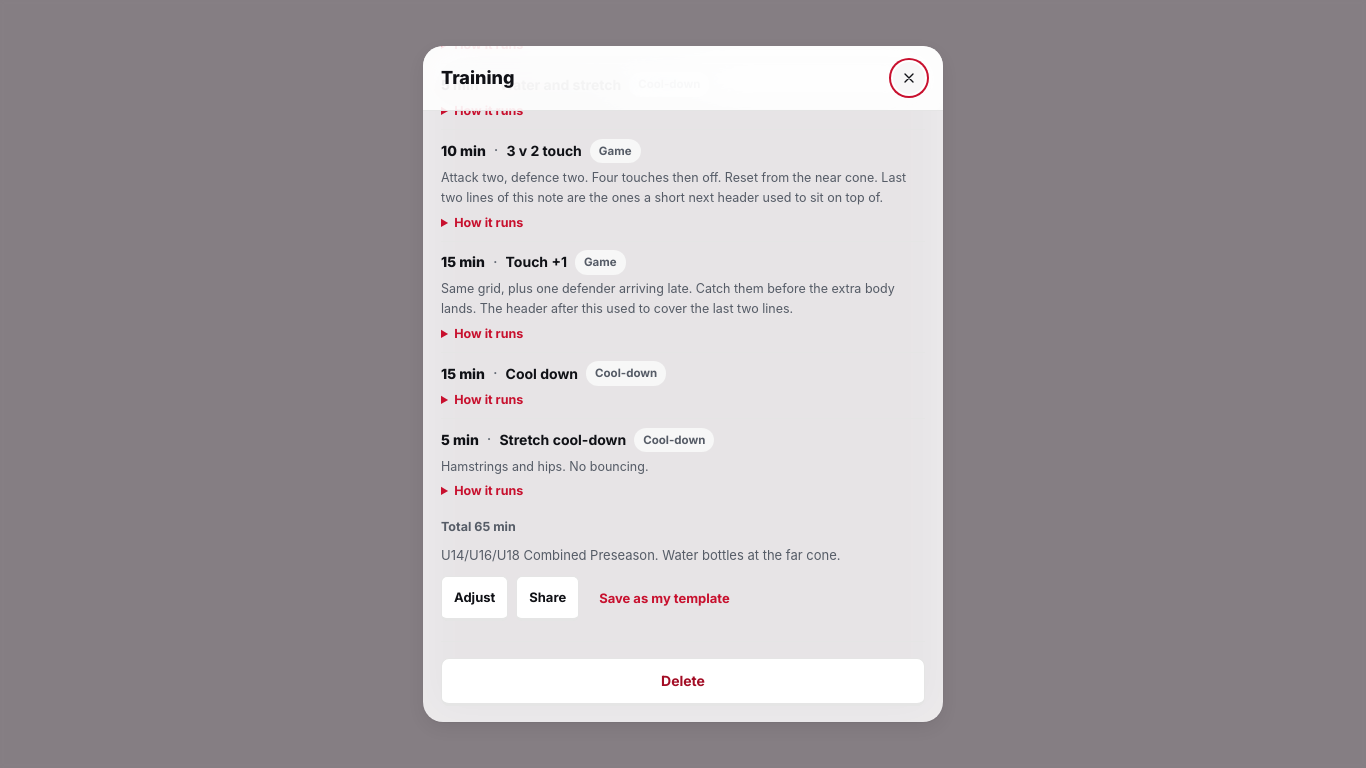
Scenario: Session Plan Share — html2canvas photographs the capture tree › on Combined Preseason, Share hands html2canvas a stacked capture — not the live BlockRow ol
The image size is (1366, 768).
(page scrolled)
Click the button "Share".
click(548, 599)  # box x1=516 y1=576 x2=579 y2=621
(page scrolled)
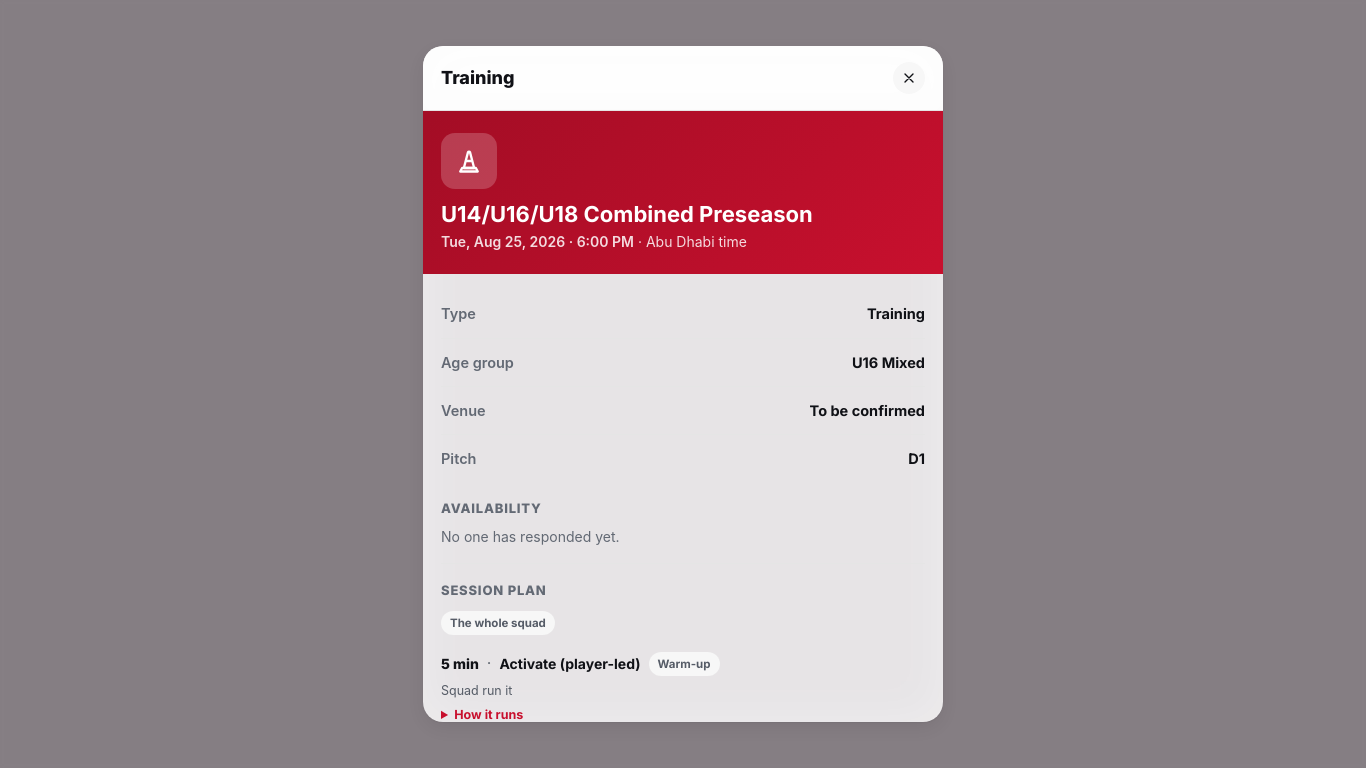
Expected: the number of headings "How it runs" is 7
Expected: the element with class "flex-wrap" that starts with "min" is shown, x1=441 y1=652 x2=720 y2=676
Expected: the text "D1" is shown, x1=908 y1=447 x2=925 y2=470
